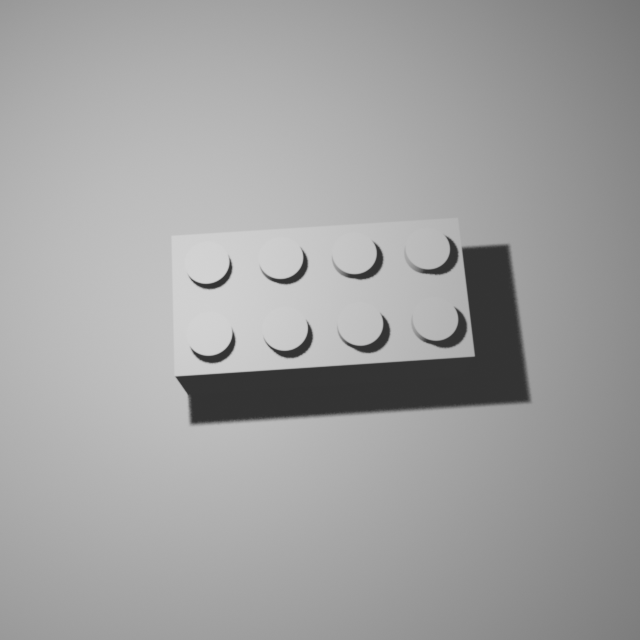lego_2x4: (169, 212, 477, 395)
